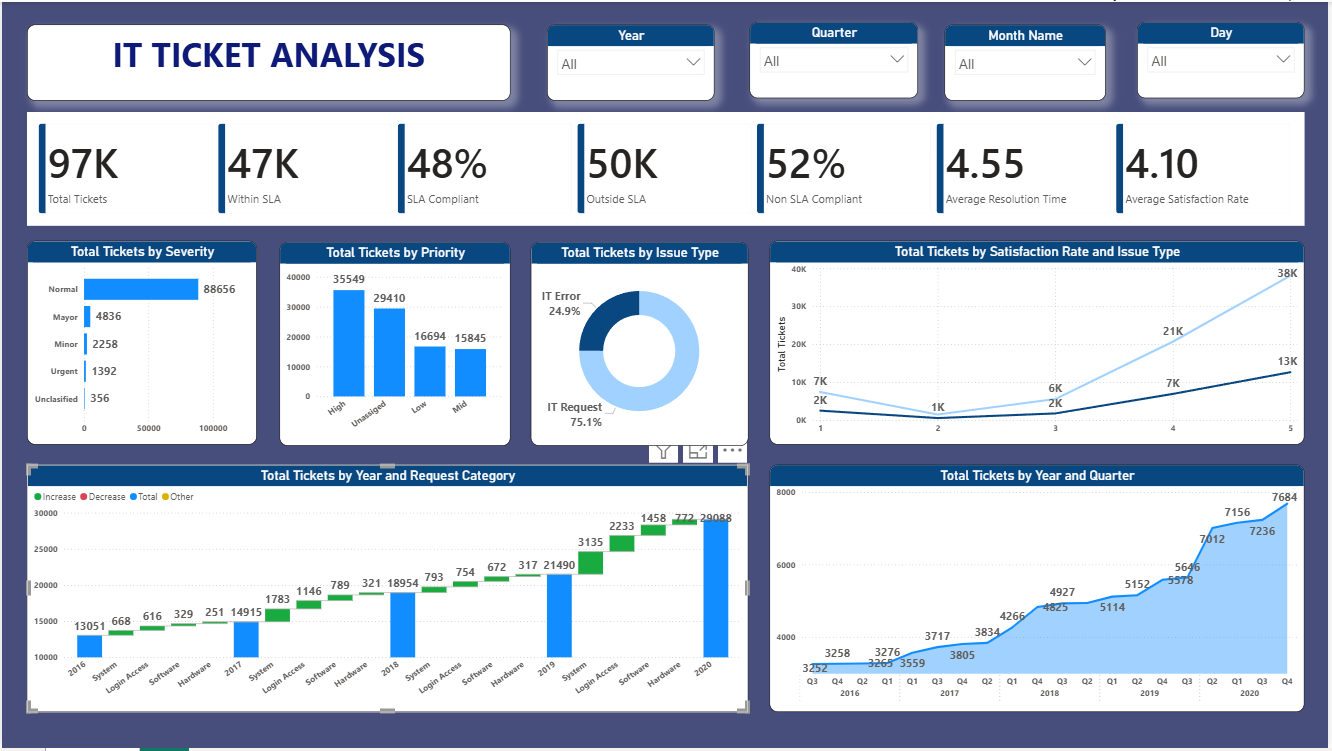

Layout of this report page (visuals, bound fields, positions):
{"tool":"powerbi","page":{"name":"Page 1","canvas":[1920,1080],"ordinal":0},"visuals":[{"type":"textbox","box":[36.2,32.6,700.3,110.4],"z":0},{"type":"slicer","title":"Year","fields":{"Values":["Calendar.Year"]},"box":[789,32.6,242.5,110.4],"z":1000},{"type":"slicer","title":"Quarter","fields":{"Values":["Calendar.Quarter"]},"box":[1082.2,29,244.3,110.4],"z":2000},{"type":"slicer","title":"Month Name","fields":{"Values":["Calendar.Month"]},"box":[1364.5,32.6,233.4,110.4],"z":3000},{"type":"slicer","title":"Day","fields":{"Values":["Calendar.Day"]},"box":[1643.2,29,242.5,110.4],"z":4000},{"type":"cardVisual","fields":{"Data":["MeasuresTable.Total Tickets","MeasuresTable.Within SLA","MeasuresTable.SLA Compliant","MeasuresTable.Outside SLA","MeasuresTable.Non SLA Compliant","MeasuresTable.Average Resolution Time","MeasuresTable.Average Satisfaction Rate"]},"box":[36.2,159.3,1849.5,164.7],"z":5000},{"type":"clusteredBarChart","fields":{"Category":["Severity.Severity"],"Y":["MeasuresTable.Total Tickets"]},"box":[36.2,345.6,333,295],"z":6000},{"type":"waterfallChart","fields":{"Category":["Calendar.Year"],"Y":["MeasuresTable.Total Tickets"],"Breakdown":["Tickets.Request Category"]},"box":[36.2,669.6,1044.2,358.3],"z":7000},{"type":"clusteredColumnChart","fields":{"Category":["Priority.Priority"],"Y":["MeasuresTable.Total Tickets"]},"box":[401.7,347.5,334.8,295],"z":8000},{"type":"areaChart","fields":{"Category":["Calendar.Year","Calendar.Quarter","Calendar.MonthName"],"Y":["MeasuresTable.Total Tickets"]},"box":[1111.1,669.6,774.5,358.3],"z":9000},{"type":"donutChart","fields":{"Category":["Tickets.Issue Type"],"Y":["MeasuresTable.Total Tickets"]},"box":[765.5,347.5,314.9,295],"z":9001},{"type":"lineChart","fields":{"Category":["Tickets.Satisfaction Rate"],"Y":["MeasuresTable.Total Tickets"],"Series":["Tickets.Issue Type"]},"box":[1111.1,345.6,774.5,295],"z":9002}]}

Visuals, with their boxes in screenshot pixels (x1, y1, x2, y2), scaled from the page's 1920x1080 canvas onto the 1332x751 screenshot:
textbox: {"x1": 25, "y1": 23, "x2": 511, "y2": 99}
"Year" slicer: {"x1": 547, "y1": 23, "x2": 716, "y2": 99}
"Quarter" slicer: {"x1": 751, "y1": 20, "x2": 920, "y2": 97}
"Month Name" slicer: {"x1": 947, "y1": 23, "x2": 1109, "y2": 99}
"Day" slicer: {"x1": 1140, "y1": 20, "x2": 1308, "y2": 97}
cardVisual - MeasuresTable.Total Tickets x MeasuresTable.Within SLA: {"x1": 25, "y1": 111, "x2": 1308, "y2": 225}
clusteredBarChart - Severity.Severity x MeasuresTable.Total Tickets: {"x1": 25, "y1": 240, "x2": 256, "y2": 445}
waterfallChart - Calendar.Year x MeasuresTable.Total Tickets: {"x1": 25, "y1": 466, "x2": 750, "y2": 715}
clusteredColumnChart - Priority.Priority x MeasuresTable.Total Tickets: {"x1": 279, "y1": 242, "x2": 511, "y2": 447}
areaChart - Calendar.Year x Calendar.Quarter: {"x1": 771, "y1": 466, "x2": 1308, "y2": 715}
donutChart - Tickets.Issue Type x MeasuresTable.Total Tickets: {"x1": 531, "y1": 242, "x2": 750, "y2": 447}
lineChart - Tickets.Satisfaction Rate x MeasuresTable.Total Tickets: {"x1": 771, "y1": 240, "x2": 1308, "y2": 445}
